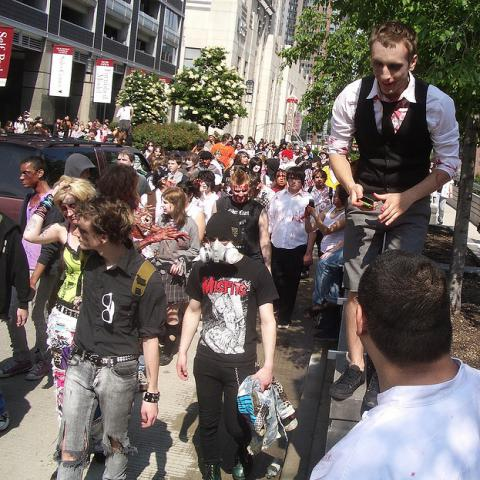car: (0, 134, 153, 229)
